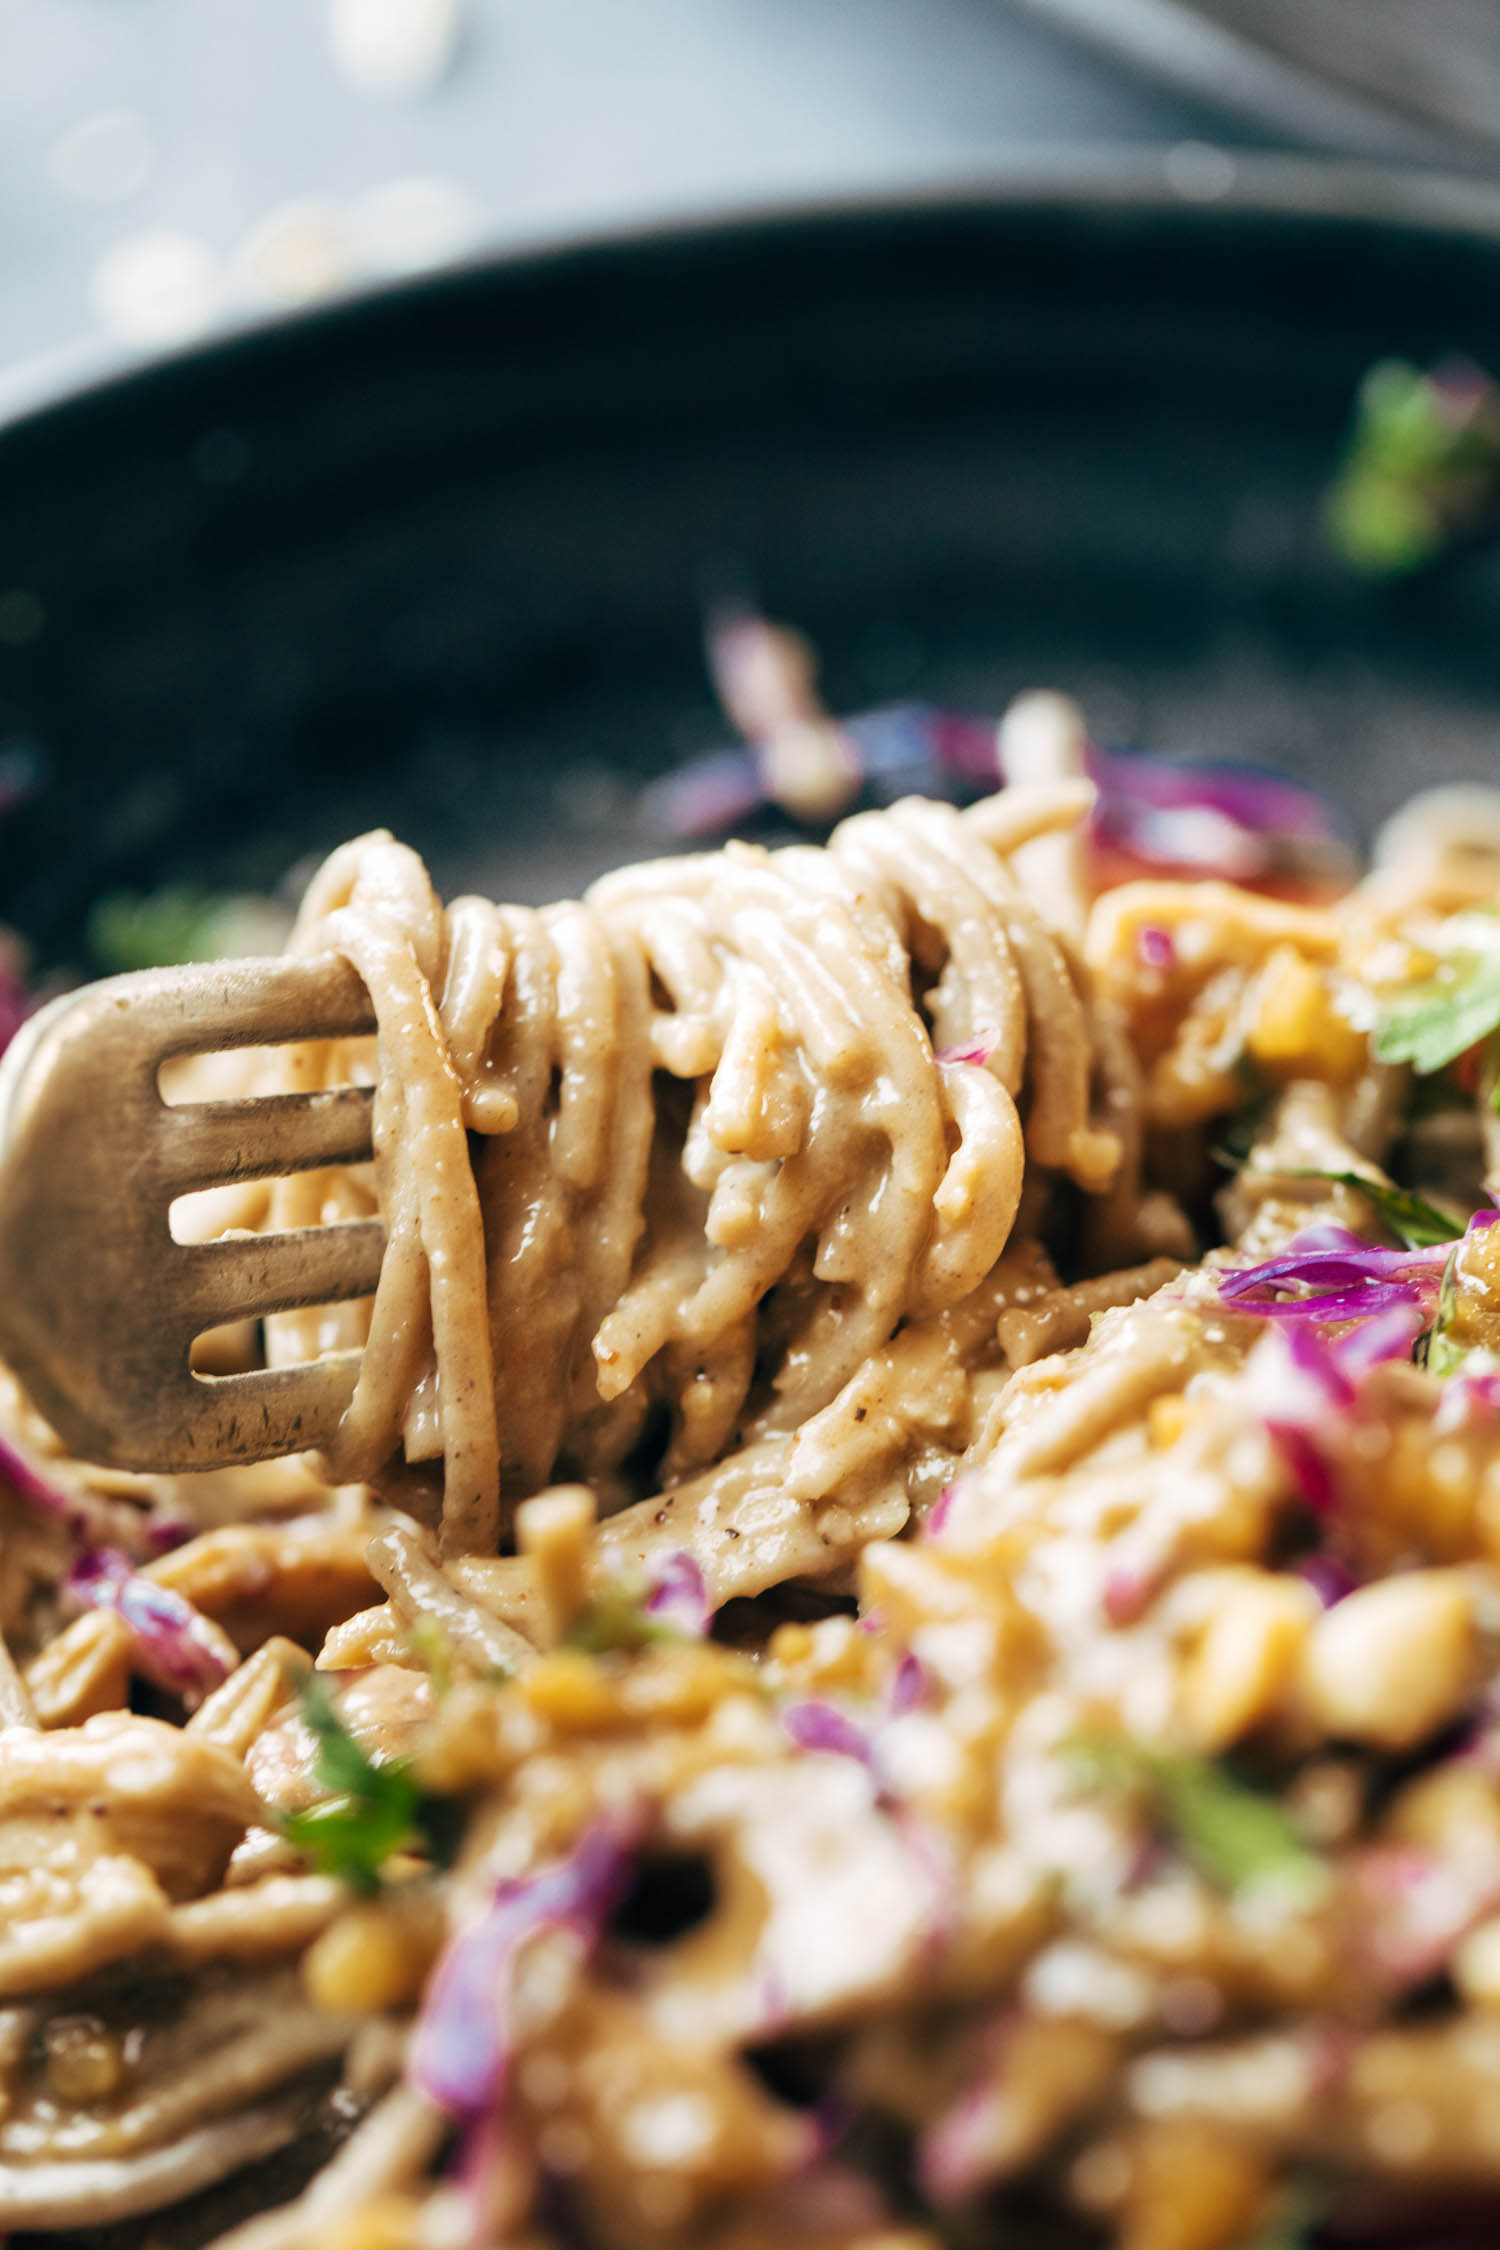Soba: (219, 809, 1092, 1539)
